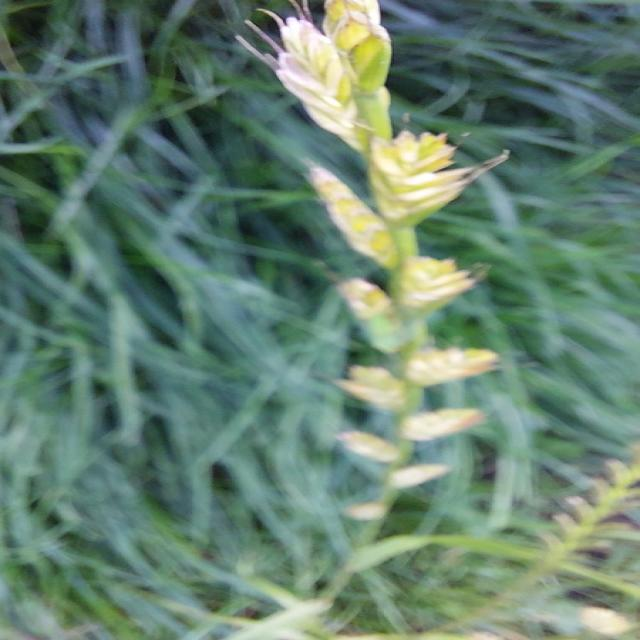Lolium: (229, 1, 516, 526)
